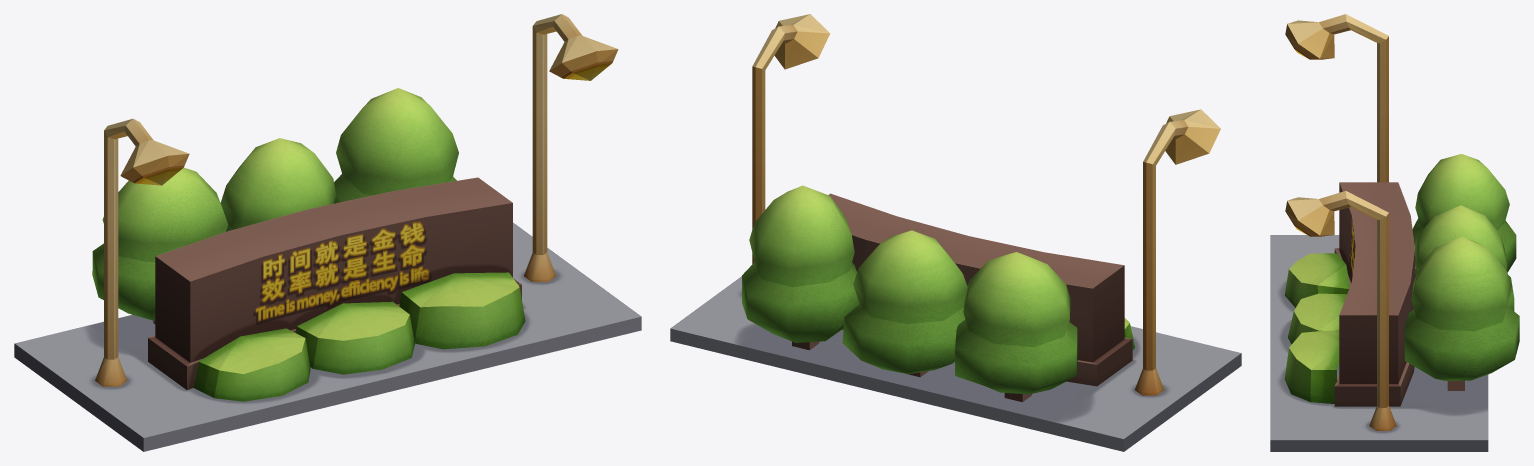
Rendered from shijianguangchang.FBX.
3 renders of one model, left to right at view 1: azimuth 30°, elevation 25°; view 2: azimuth 150°, elevation 25°; view 3: azimuth 270°, elevation 25°, orthographic. The views are drawn at different scales.
Visible parts, largest first — view 1: shijianguangchang; view 2: shijianguangchang; view 3: shijianguangchang.
Boxes of the visible parts, x1=… form: shijianguangchang: x1=14, y1=14, x2=641, y2=451; shijianguangchang: x1=670, y1=14, x2=1241, y2=451; shijianguangchang: x1=1270, y1=14, x2=1519, y2=451.
Bounding box in the file's own units: 1581 × 887 × 812.
Materials: 1 (1 with a texture image).
